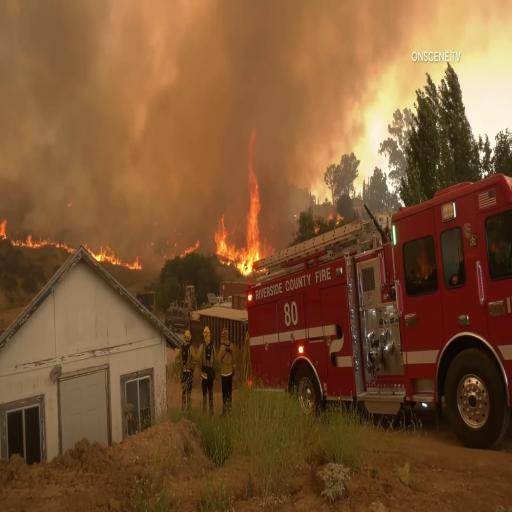fire: (240, 134, 274, 279), (210, 206, 278, 272), (4, 215, 78, 256), (92, 243, 144, 270)
